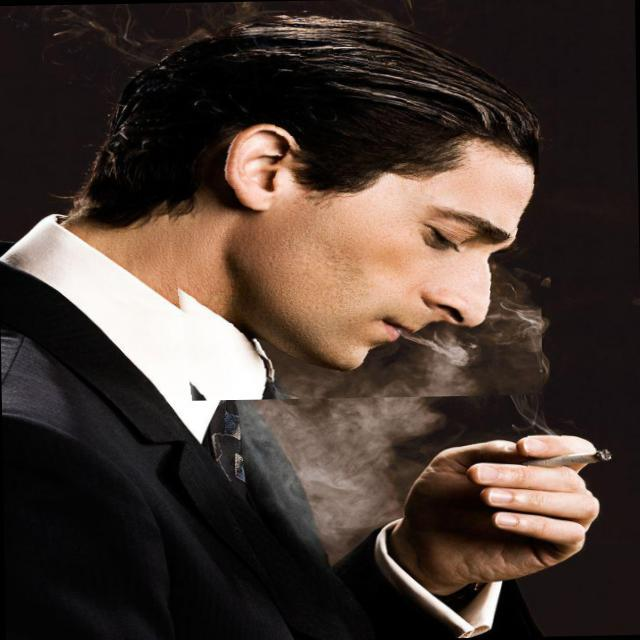cigarette: (510, 428, 618, 489)
